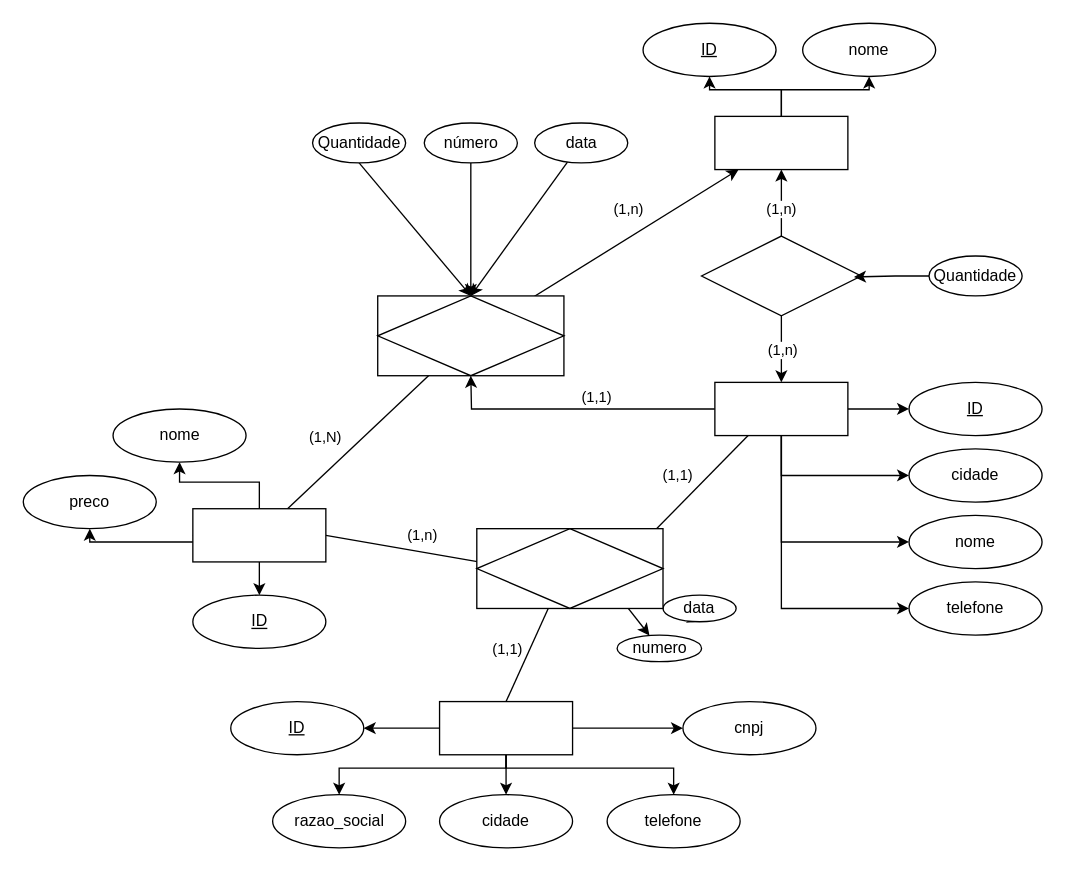
Some shapes in this 1065 by 871 pixel diagram are drawn without their labels. The centre of each missing label's shape, as x and y in pixels:
Cliente: [505,727]
Contem: [780,275]
Expedir: [569,567]
Producao: [470,335]
Produto: [259,534]
Resina: [781,142]
Unidade: [781,408]
